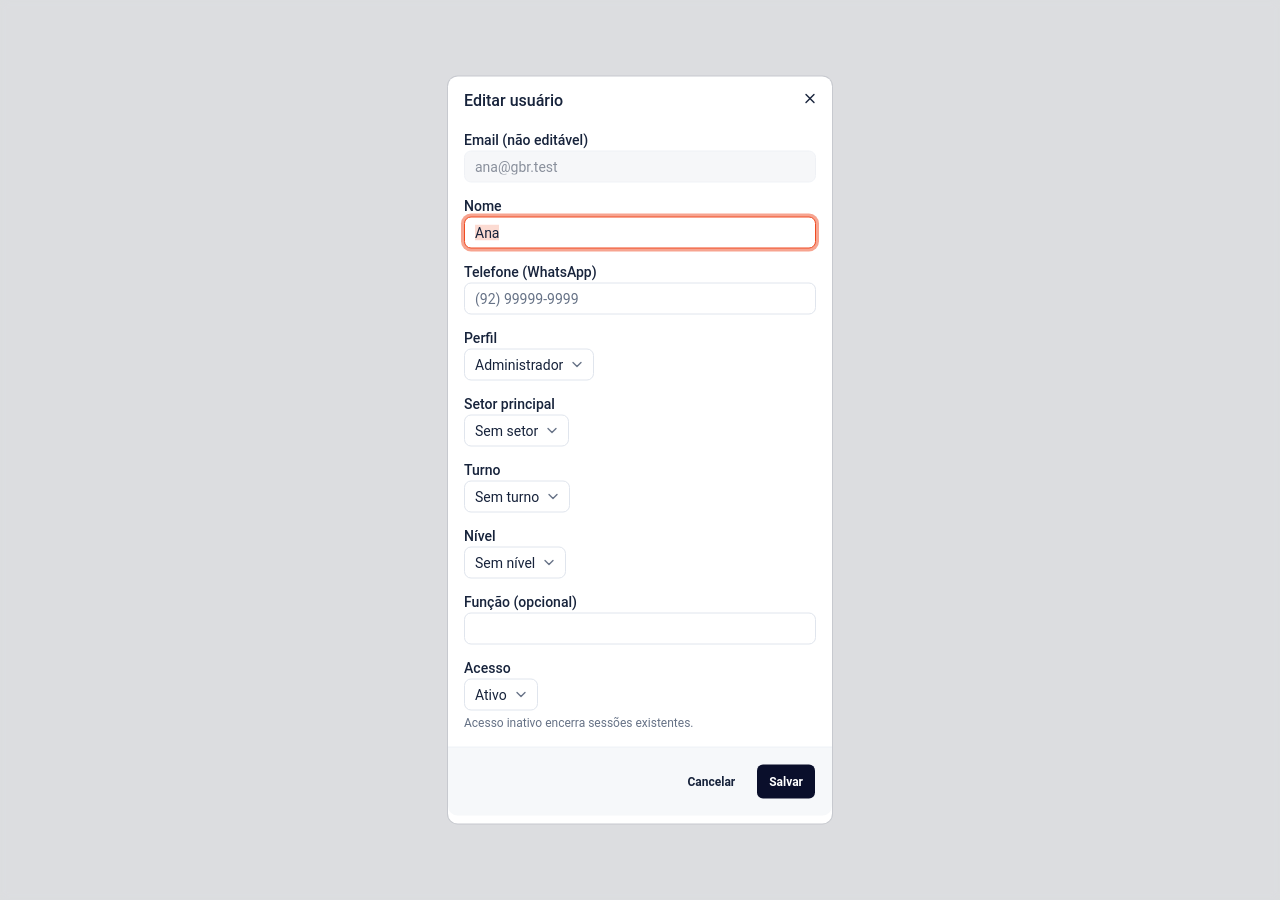
EditUserDialog phone › shows phone_taken next to the phone field
Type "92 98888-7777" into the field labelled "Telefone (WhatsApp)".
click(640, 298); type("92 98888-7777")  # box [464,282,816,314]
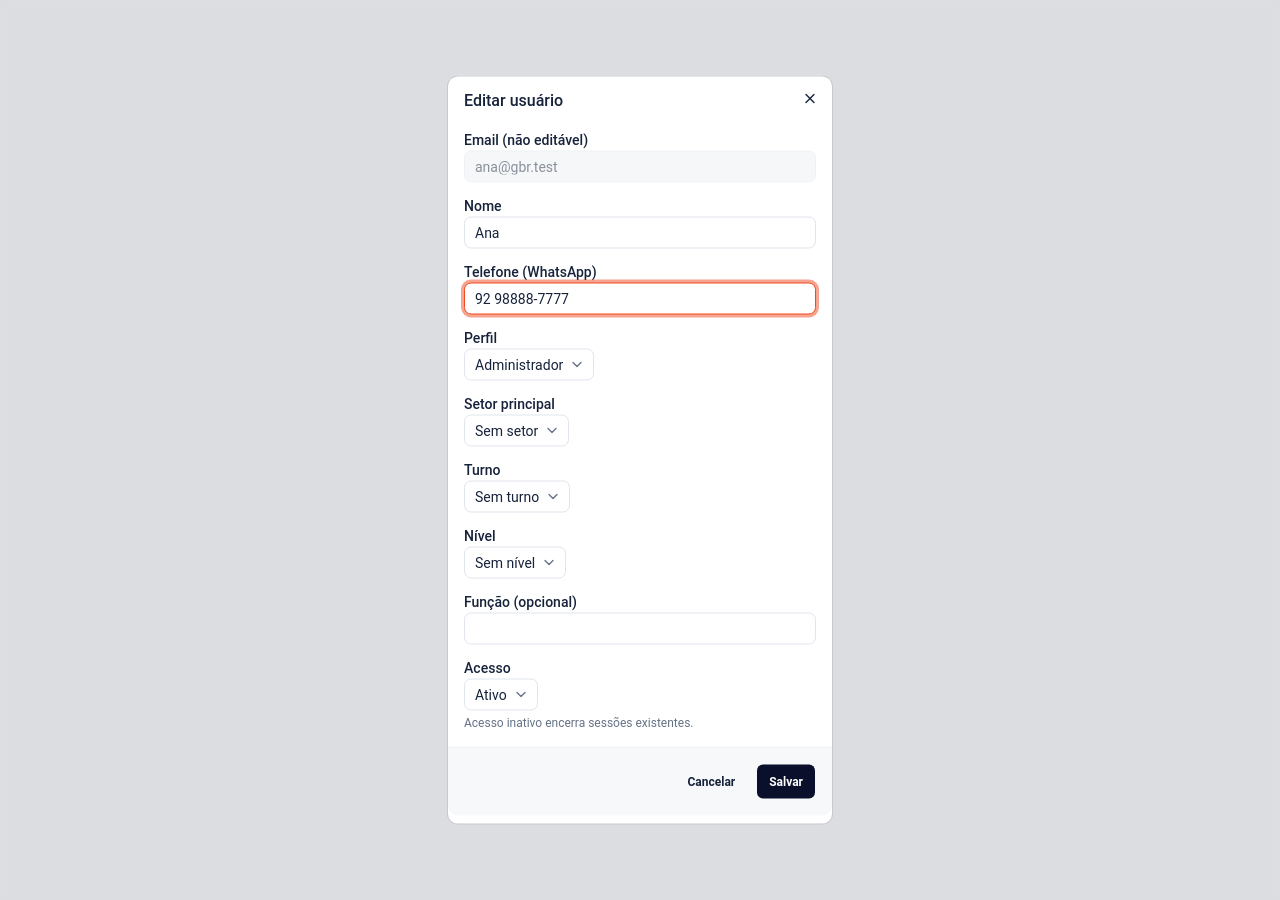
Click the button "Salvar".
click(786, 782)  # box [756,764,816,800]
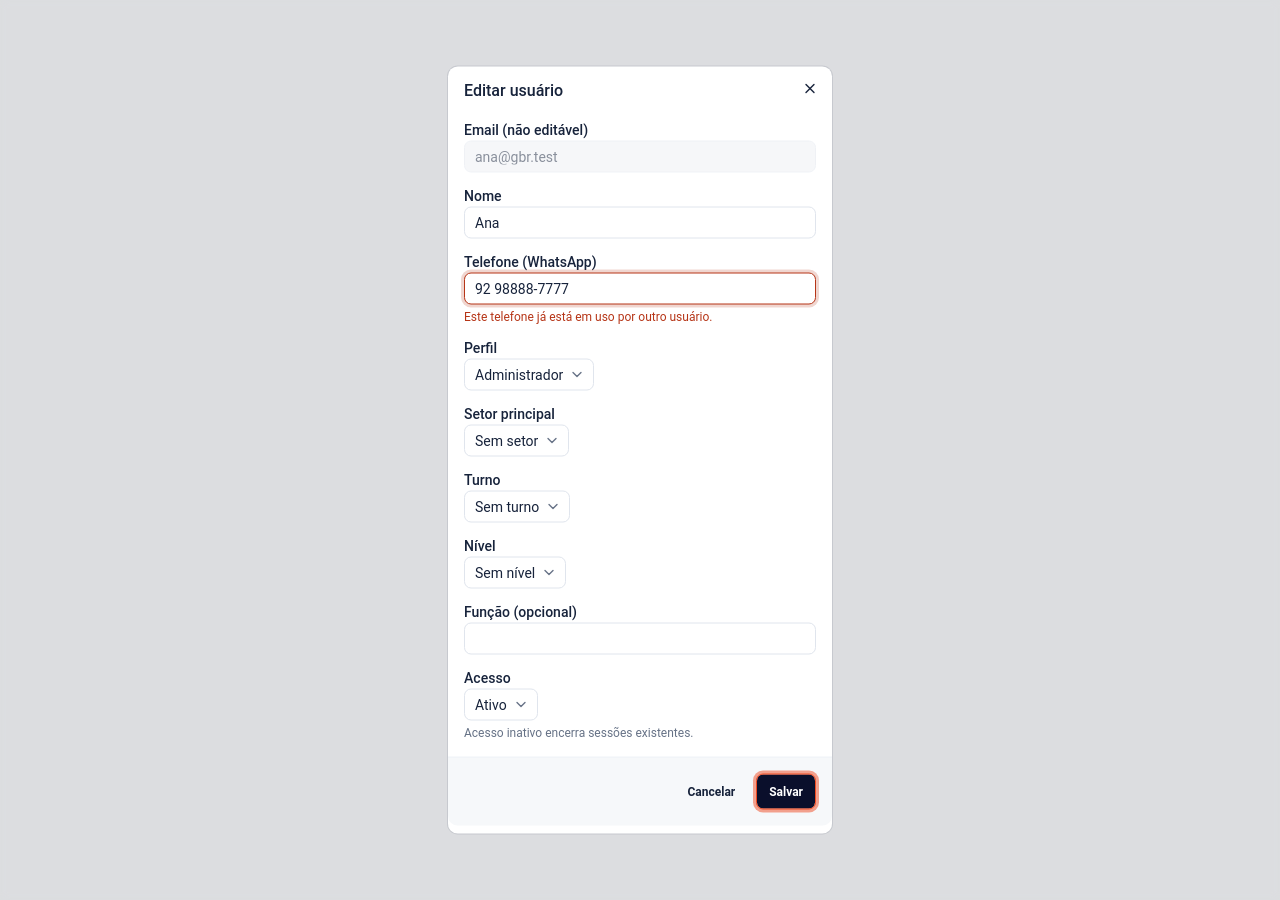
Check: the text "Este telefone já está em uso por outro usuário." is shown, box [464,310,712,324]
